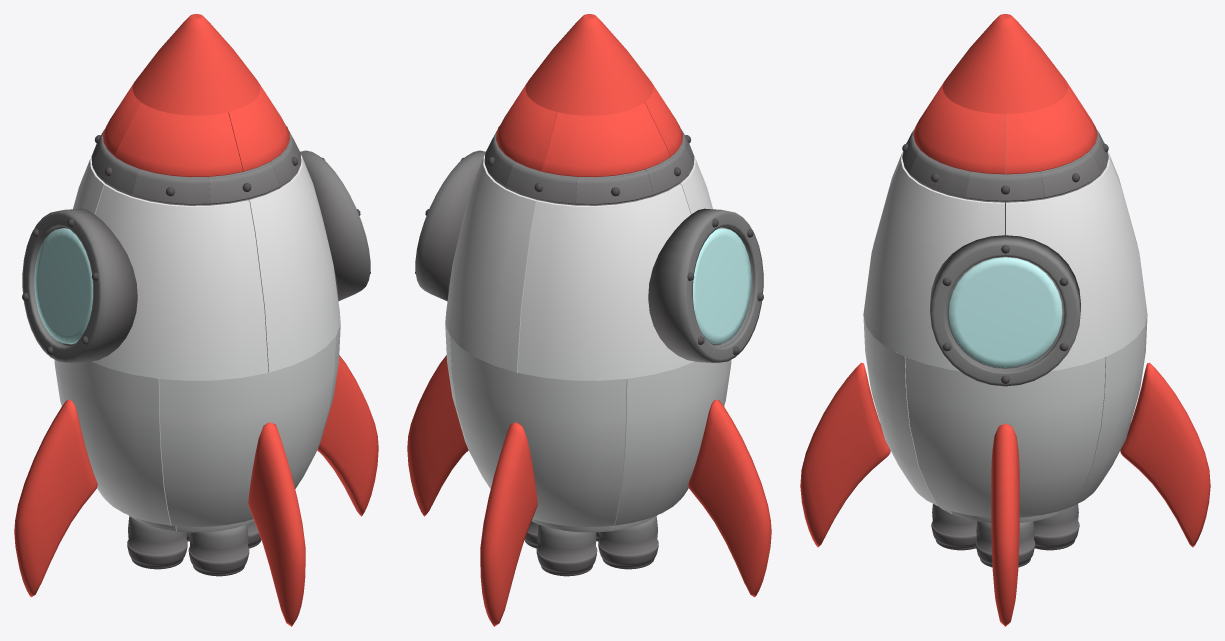
File: Level_P_8.fbx
3 views of the same model, side by side, from view 1: azimuth 30°, elevation 25°; view 2: azimuth 150°, elevation 25°; view 3: azimuth 270°, elevation 25° (orthographic).
Visible parts, largest first — view 1: Cylinder.019, Cylinder.021, Cylinder.001, Cylinder.018, Cylinder.022, Cylinder.009, Cylinder.013, Cylinder.007, Cylinder.016, Cylinder.003, Cylinder.006, Cylinder.015 (+8 smaller); view 2: Cylinder.017, Cylinder.020, Cylinder.001, Cylinder.004, Cylinder.022, Cylinder.009, Cylinder.013, Cylinder.010, Cylinder.014, Cylinder.003, Cylinder.006, Cylinder.002 (+8 smaller); view 3: Cylinder.023, Cylinder.006, Cylinder.018, Cylinder.004, Cylinder.010, Cylinder.007, Cylinder.013, Cylinder.015, Cylinder.002, Cylinder.003, Cylinder.021, Cylinder.020 (+6 smaller).
Boxes of the visible parts, x1=… form: Cylinder.019: x1=92, y1=184, x2=268, y2=380; Cylinder.021: x1=159, y1=336, x2=335, y2=532; Cylinder.001: x1=22, y1=208, x2=137, y2=362; Cylinder.018: x1=248, y1=155, x2=340, y2=372; Cylinder.022: x1=54, y1=359, x2=176, y2=531; Cylinder.009: x1=14, y1=399, x2=97, y2=597; Cylinder.013: x1=132, y1=14, x2=260, y2=115; Cylinder.007: x1=248, y1=422, x2=305, y2=626; Cylinder.016: x1=115, y1=103, x2=242, y2=177; Cylinder.003: x1=317, y1=355, x2=378, y2=516; Cylinder.006: x1=300, y1=150, x2=370, y2=301; Cylinder.015: x1=228, y1=82, x2=289, y2=171; Cylinder.017: x1=517, y1=184, x2=693, y2=380; Cylinder.020: x1=450, y1=336, x2=626, y2=532; Cylinder.001: x1=648, y1=208, x2=763, y2=362; Cylinder.004: x1=445, y1=155, x2=537, y2=372; Cylinder.022: x1=609, y1=359, x2=731, y2=531; Cylinder.009: x1=688, y1=399, x2=771, y2=597; Cylinder.013: x1=525, y1=14, x2=653, y2=115; Cylinder.010: x1=480, y1=422, x2=537, y2=626; Cylinder.014: x1=543, y1=103, x2=670, y2=177; Cylinder.003: x1=407, y1=355, x2=468, y2=516; Cylinder.006: x1=415, y1=150, x2=485, y2=301; Cylinder.002: x1=496, y1=82, x2=557, y2=171; Cylinder.023: x1=905, y1=357, x2=1105, y2=522; Cylinder.006: x1=930, y1=235, x2=1080, y2=386; Cylinder.018: x1=863, y1=159, x2=1004, y2=370; Cylinder.004: x1=1006, y1=159, x2=1147, y2=370; Cylinder.010: x1=1120, y1=362, x2=1210, y2=547; Cylinder.007: x1=800, y1=362, x2=890, y2=547; Cylinder.013: x1=942, y1=14, x2=1068, y2=113; Cylinder.015: x1=913, y1=88, x2=1005, y2=174; Cylinder.002: x1=1005, y1=88, x2=1097, y2=174; Cylinder.003: x1=991, y1=423, x2=1019, y2=626; Cylinder.021: x1=863, y1=315, x2=951, y2=513; Cylinder.020: x1=1059, y1=315, x2=1147, y2=513.
Bounding box in the file's own units: 2.64 × 3.78 × 2.64.
